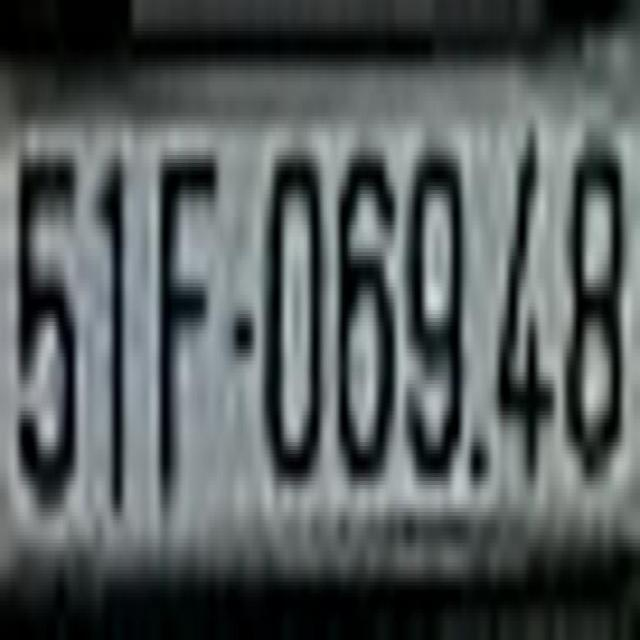0: (263, 113, 320, 473)
1: (96, 163, 133, 512)
4: (492, 116, 551, 496)
5: (15, 144, 80, 532)
6: (336, 155, 398, 493)
8: (565, 97, 626, 489)
9: (410, 140, 466, 484)
F: (154, 112, 217, 512)
